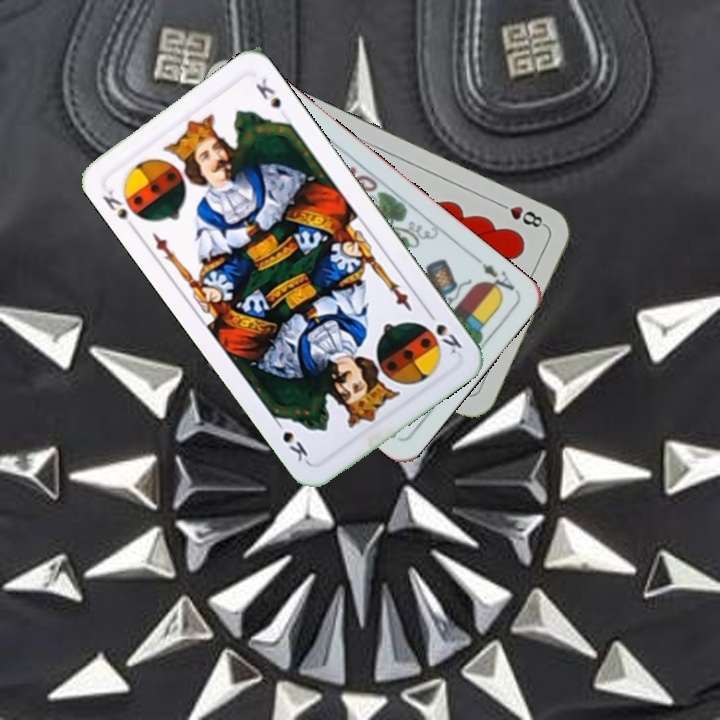EA: (470, 252, 518, 299)
H8: (493, 198, 549, 231)
SK: (422, 306, 465, 358), (98, 185, 130, 223)
